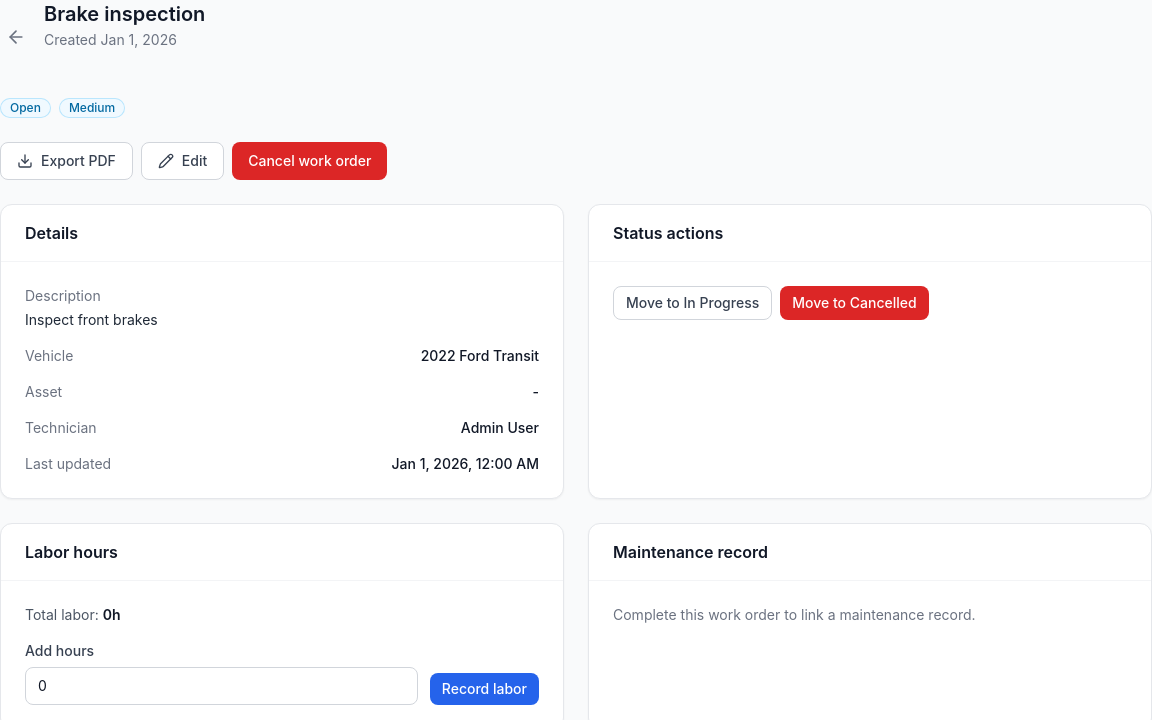
Test: Export PDF on detail pages › shows an error toast when work order PDF export fails
The width and height of the screenshot is (1152, 720).
Click the button "Export PDF" at [66, 161], box [0, 142, 133, 180]
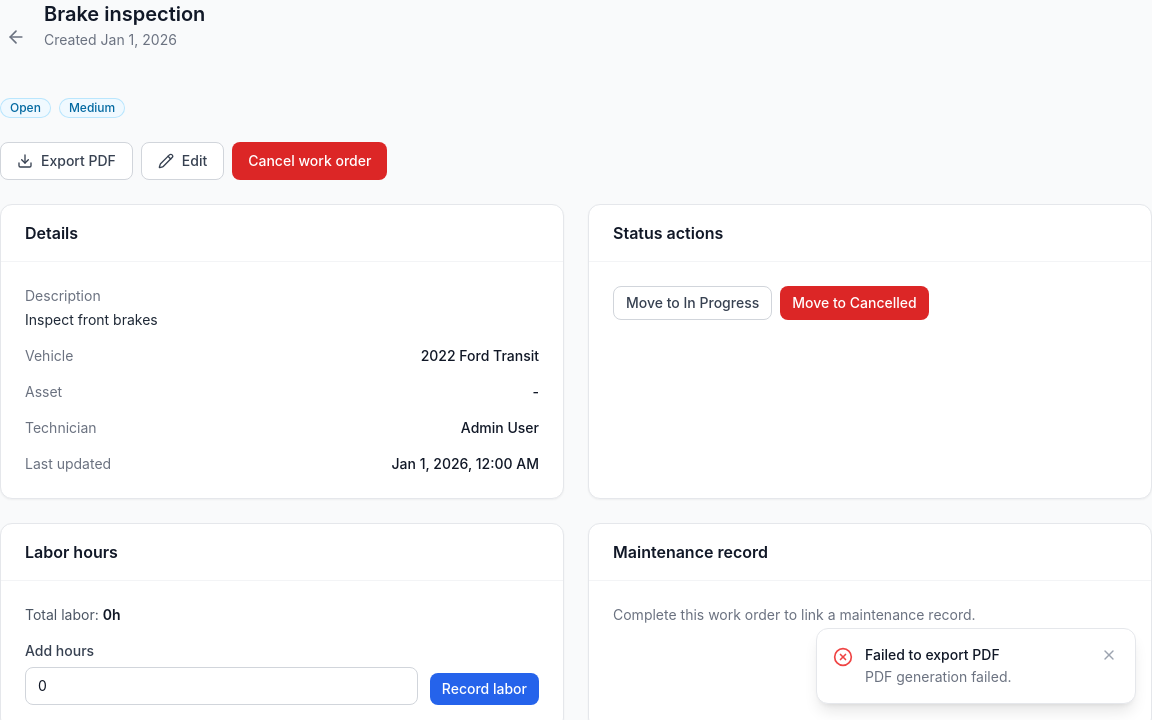
Now the text "Failed to export PDF" is shown, box [865, 646, 1000, 663]
Now the text "PDF generation failed." is shown, box [865, 668, 1012, 685]
